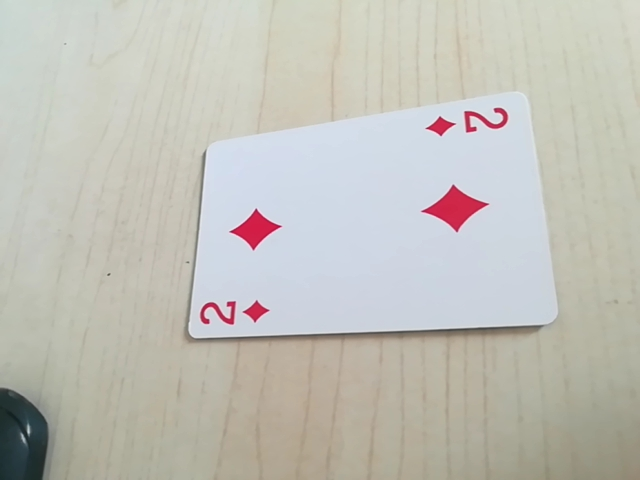fk 2: (424, 103, 516, 145), (195, 292, 277, 337)
